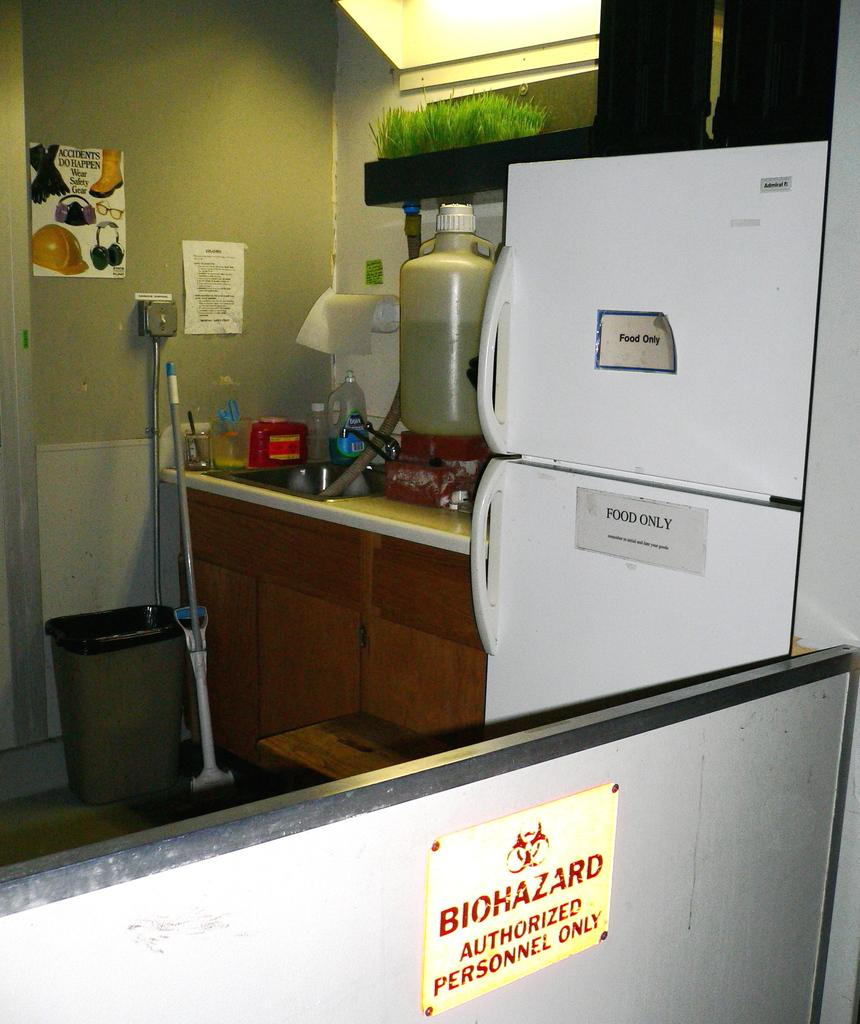cabinet_door: (194, 504, 355, 578), (260, 583, 352, 707), (368, 626, 482, 726), (370, 555, 474, 623)
handle: (466, 250, 518, 442), (465, 449, 504, 650)
